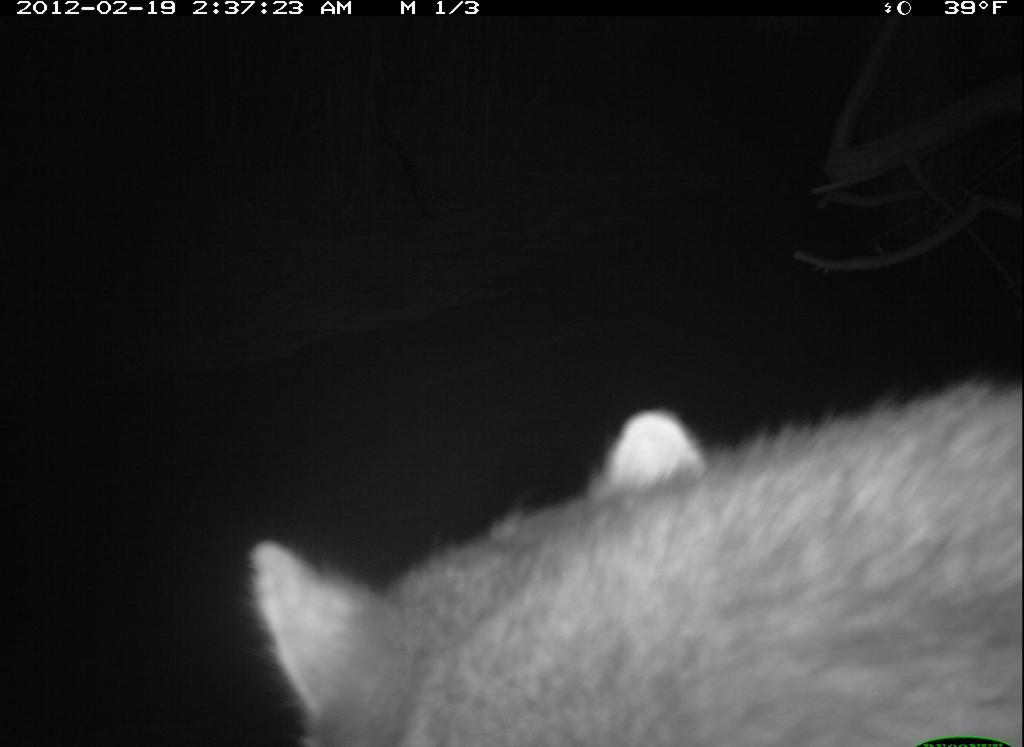raccoon: (236, 369, 1022, 743)
